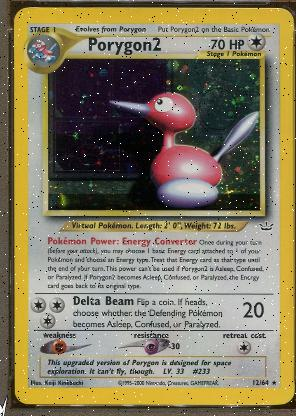Card: (13, 6, 293, 408)
Scratch: (70, 179, 133, 193)
